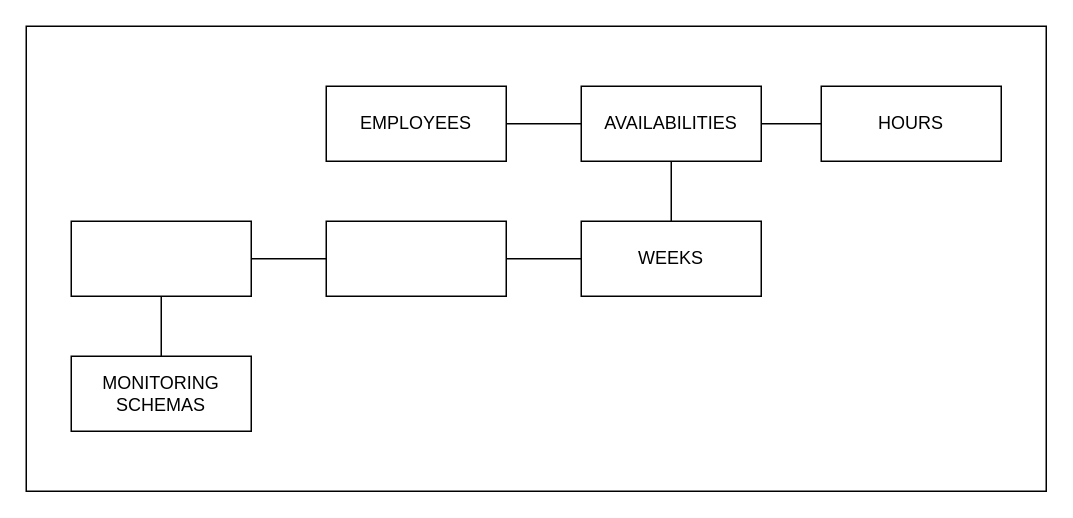
The diagram is 1073 pixels wide and 518 high, and some of its shapes have lost their labels. The centre of each missing label's shape, as x and y in pixels:
MONITORING SHIFTS: the point at 415,258
SERVICES: the point at 160,258
